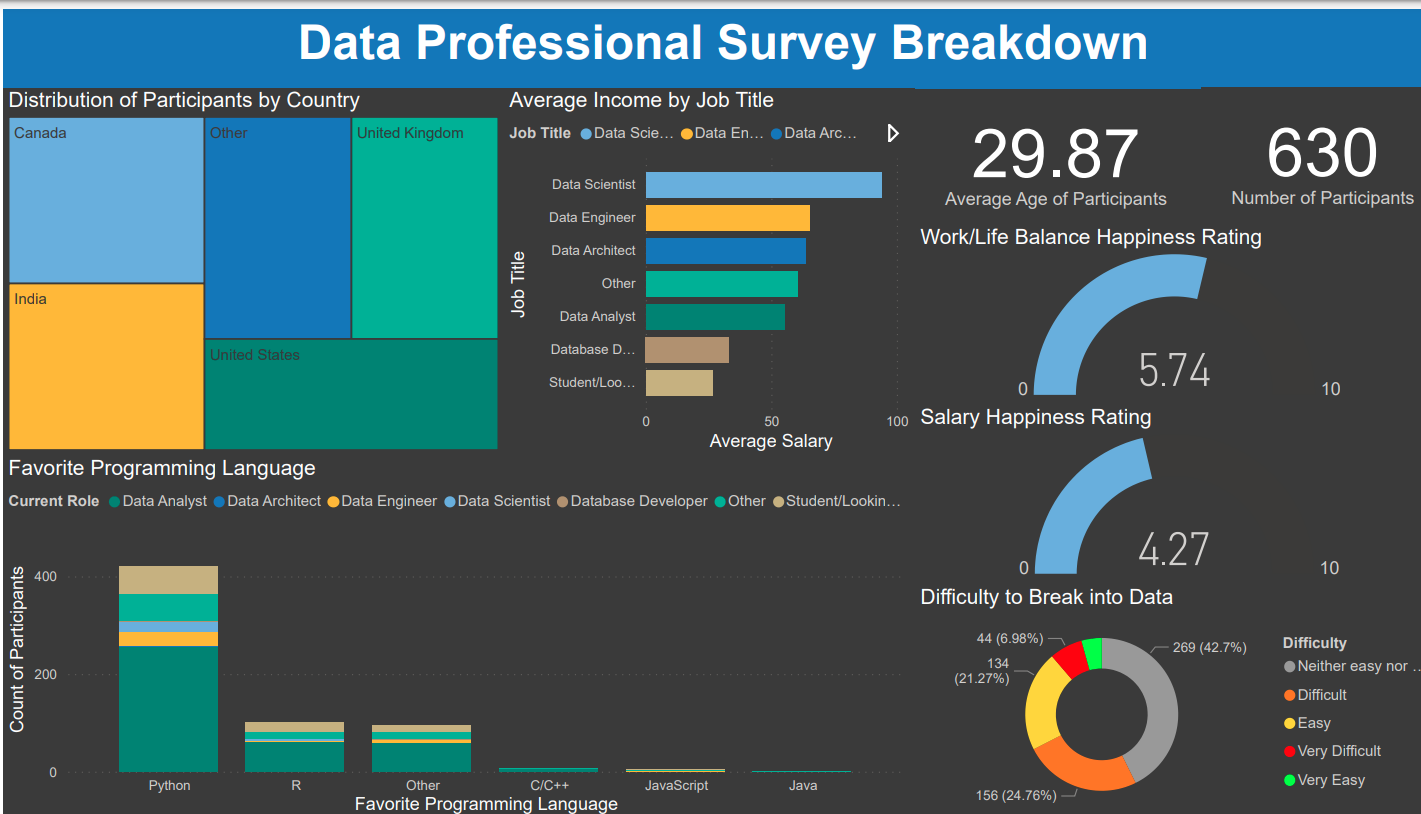

This screenshot's page, from the dashboard's own definition file:
{"tool":"powerbi","page":{"name":"Page 1","canvas":[1280,720],"ordinal":0},"visuals":[{"type":"textbox","box":[0,0,1280,71],"z":0},{"type":"card","fields":{"Values":["CountNonNull(Data Professional Survey.Unique ID)"]},"box":[1065.2,70.5,214.8,122],"z":1},{"type":"card","fields":{"Values":["Avg(Data Professional Survey.Q10 - Current Age)"]},"box":[805.6,71.6,259.6,120.8],"z":2},{"type":"barChart","title":"Average Income by Job Title","fields":{"Category":["Data Professional Survey.Q1 - Which Title Best Fits your Current Role?.1"],"Y":["Avg(Data Professional Survey.Average Salary)"],"Series":["Data Professional Survey.Q1 - Which Title Best Fits your Current Role?.1"]},"box":[445.3,70.5,364.8,326.7],"z":3},{"type":"columnChart","title":"Favorite Programming Language","fields":{"Category":["Data Professional Survey.Q5 - Favorite Programming Language.1"],"Y":["CountNonNull(Data Professional Survey.Unique ID)"],"Series":["Data Professional Survey.Q1 - Which Title Best Fits your Current Role?.1"]},"box":[0,397.2,805.6,323.4],"z":4},{"type":"treemap","title":"Distribution of Participants by Country","fields":{"Group":["Data Professional Survey.Q11 - Which Country do you live in?.1"],"Values":["Count(Data Professional Survey.Q11 - Which Country do you live in?.1)"]},"box":[0,70.5,445.3,326.7],"z":5},{"type":"gauge","title":"Work/Life Balance Happiness Rating","fields":{"Y":["Avg(Data Professional Survey.Q6 - How Happy are you in your Current Position with the following? (Work/Life Balance))"],"MinValue":["Min(Data Professional Survey.Q6 - How Happy are you in your Current Position with the following? (Work/Life Balance))"],"MaxValue":["Max(Data Professional Survey.Q6 - How Happy are you in your Current Position with the following? (Work/Life Balance))"]},"box":[810.3,192.1,470.1,160.5],"z":6},{"type":"gauge","title":"Salary Happiness Rating","fields":{"Y":["Avg(Data Professional Survey.Q6 - How Happy are you in your Current Position with the following? (Salary))"],"MinValue":["Min(Data Professional Survey.Q6 - How Happy are you in your Current Position with the following? (Salary))"],"MaxValue":["Max(Data Professional Survey.Q6 - How Happy are you in your Current Position with the following? (Salary))"]},"box":[810.1,352.4,469.9,160],"z":7},{"type":"donutChart","title":"Difficulty to Break into Data","fields":{"Category":["Data Professional Survey.Q7 - How difficult was it for you to break into Data?"],"Y":["CountNonNull(Data Professional Survey.Q7 - How difficult was it for you to break into Data?)"]},"box":[810.1,512.4,469.9,208.1],"z":8}]}

Visuals, with their boxes in screenshot pixels (x1, y1, x2, y2), scaled from the page's 1280x720 canvas onto the 1421x814 screenshot:
textbox: [x1=0, y1=0, x2=1420, y2=80]
card - CountNonNull(Data Professional Survey.Unique ID): [x1=1183, y1=80, x2=1420, y2=218]
card - Avg(Data Professional Survey.Q10 - Current Age): [x1=894, y1=81, x2=1183, y2=218]
"Average Income by Job Title" barChart: [x1=494, y1=80, x2=899, y2=449]
"Favorite Programming Language" columnChart: [x1=0, y1=449, x2=894, y2=813]
"Distribution of Participants by Country" treemap: [x1=0, y1=80, x2=494, y2=449]
"Work/Life Balance Happiness Rating" gauge: [x1=900, y1=217, x2=1420, y2=399]
"Salary Happiness Rating" gauge: [x1=899, y1=398, x2=1420, y2=579]
"Difficulty to Break into Data" donutChart: [x1=899, y1=579, x2=1420, y2=813]
